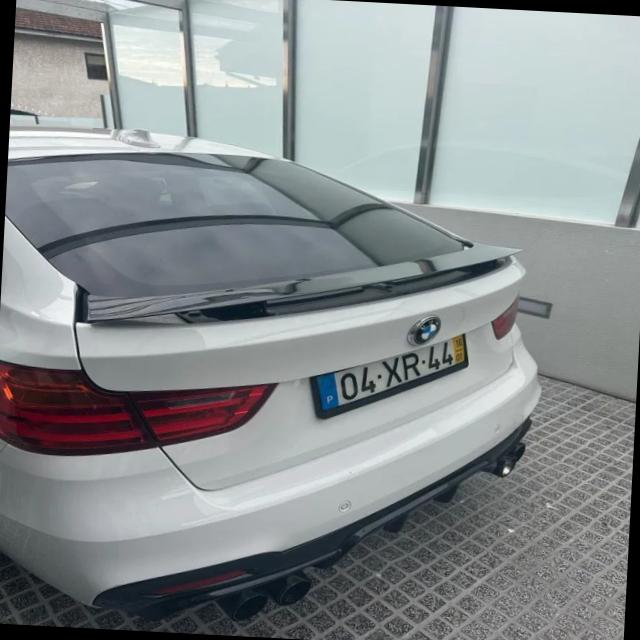portuguese-license-plates: (301, 326, 476, 426)
